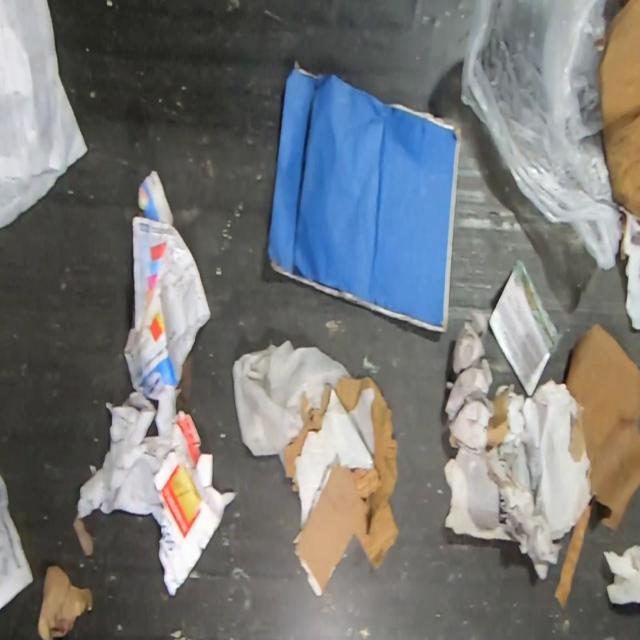cardboard: (263, 55, 464, 339), (483, 322, 640, 610), (284, 374, 400, 596), (596, 0, 640, 328)
soft_plastic: (461, 0, 623, 272)
